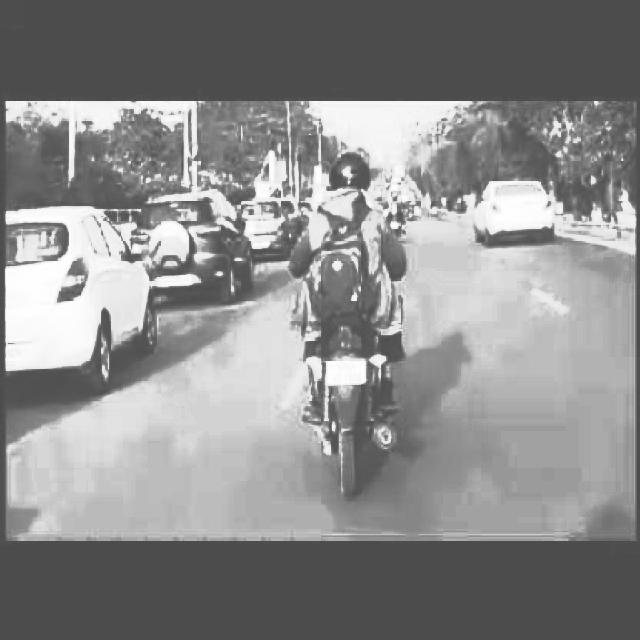Car: (6, 216, 125, 387), (137, 192, 250, 303), (472, 169, 568, 265), (242, 180, 308, 260)
